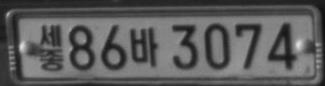0: (203, 21, 231, 69)
3: (171, 23, 198, 69)
4: (267, 21, 297, 70)
6: (100, 24, 127, 71)
7: (234, 23, 262, 69)
8: (68, 24, 96, 70)
바: (129, 26, 158, 67)
세종_V: (38, 24, 65, 71)
